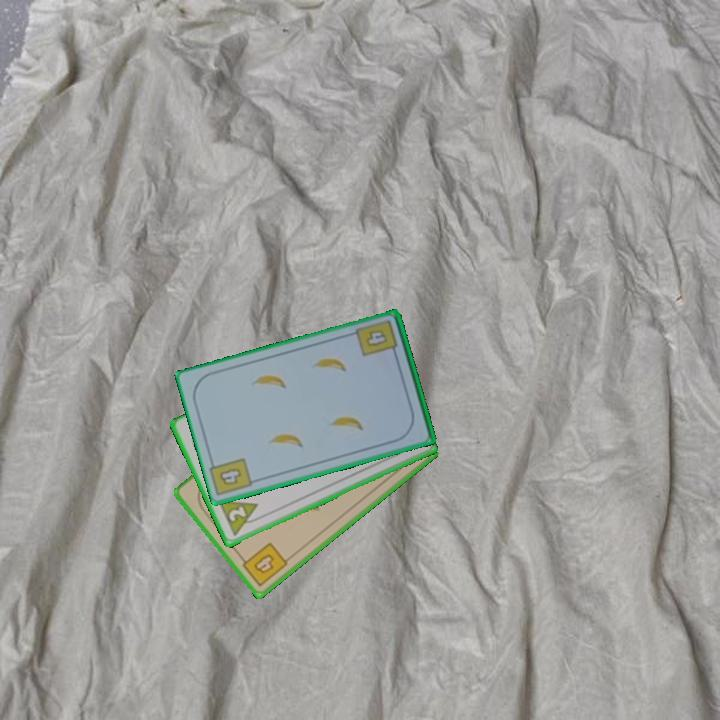2p: (215, 497, 266, 539)
4b: (236, 539, 291, 590), (353, 317, 401, 360), (215, 465, 244, 488)
